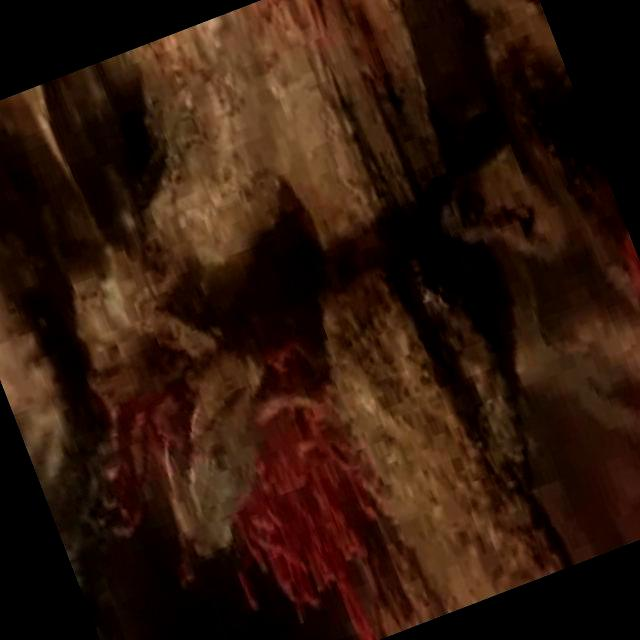Oyster-Closed: (0, 233, 93, 541)
Oyster-Open: (323, 249, 565, 614)
